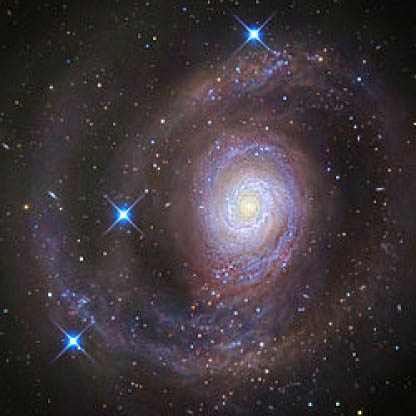Messier 94: (40, 15, 403, 397)
